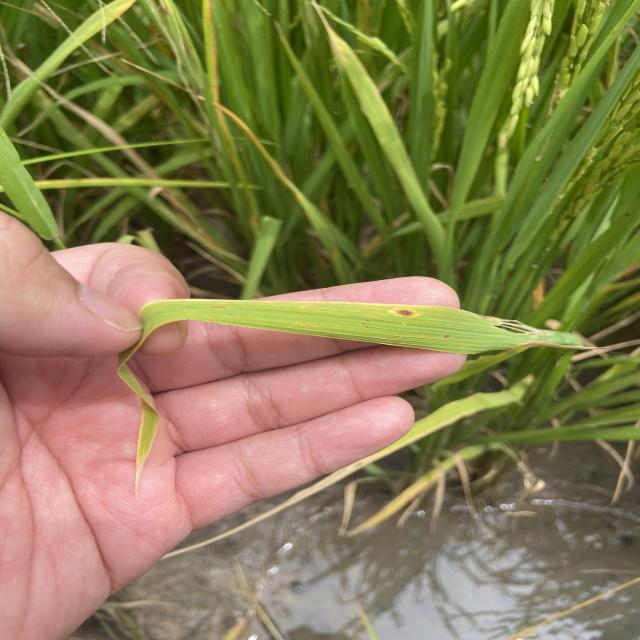Dao on: (390, 308, 421, 318)
